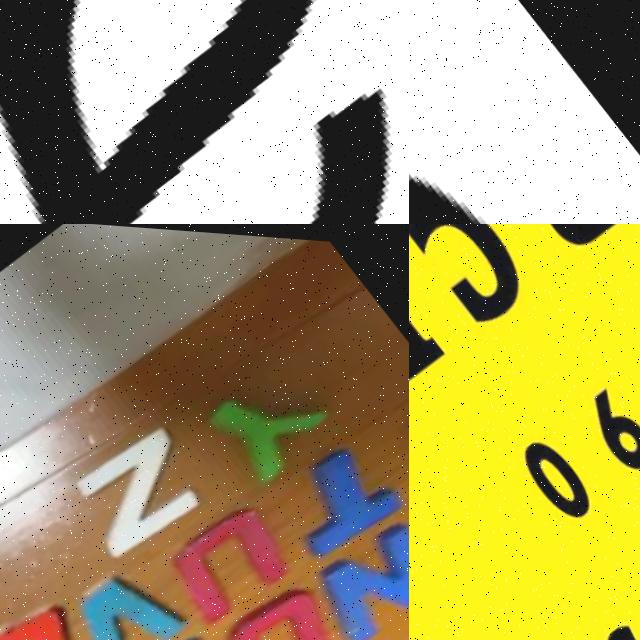0: (498, 408, 608, 532)
9: (565, 362, 640, 480)
A: (0, 0, 409, 224)
G: (409, 0, 640, 224)
N: (305, 497, 409, 640)
O: (210, 558, 358, 640)
T: (269, 422, 405, 562)
U: (149, 482, 299, 638)
V: (57, 552, 188, 640)
Y: (192, 341, 336, 491)
Z: (55, 399, 223, 571)
